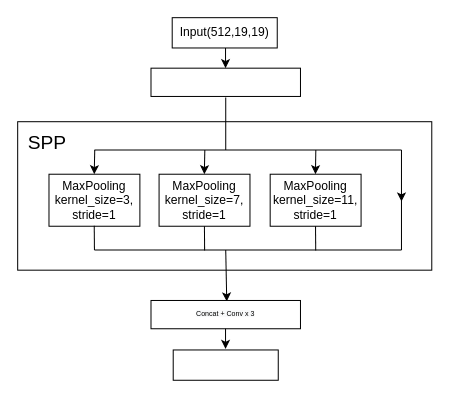
This 449x398 diagram has some shape labels left out. Here are the shapes that lost their labels. From the top down, the centre of each, then its label:
At pixel 225 81: "Conv x 3(256,19,19)".
At pixel 225 364: "Output(256,19,19)".
